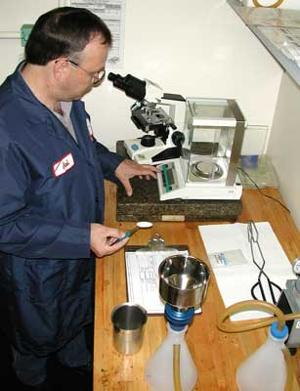person: (2, 8, 159, 391)
